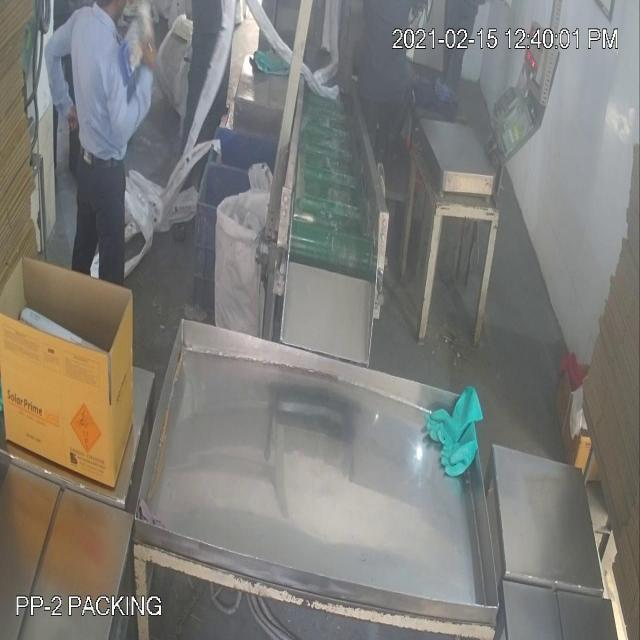No_Gloves: (45, 85, 456, 434)
